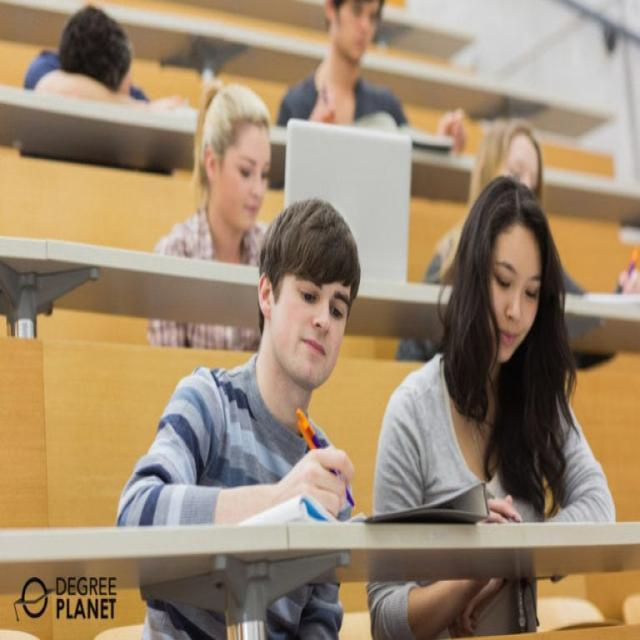Looking away: (220, 126, 272, 233)
Reading-writing: (115, 197, 366, 523), (378, 180, 616, 522)
